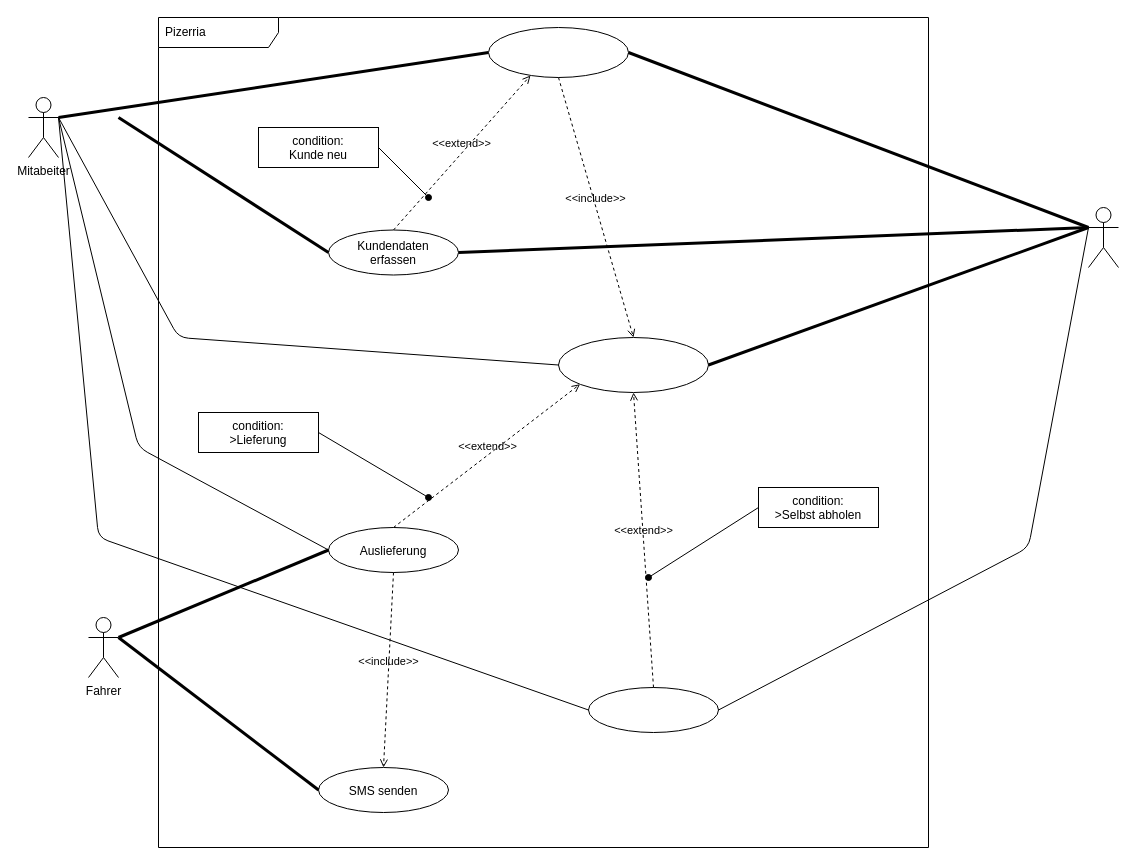
Image size: 1138x865. Some labels were removed from this diagram. Here are the shapes that lost their labels. From the top down, the centre of each, then its label:
At (x=558, y=52): "Bestellanruf".
At (x=1103, y=237): "Kunde".
At (x=633, y=364): "Bestellung aufnehmen".
At (x=653, y=709): "Selbsabholung".
